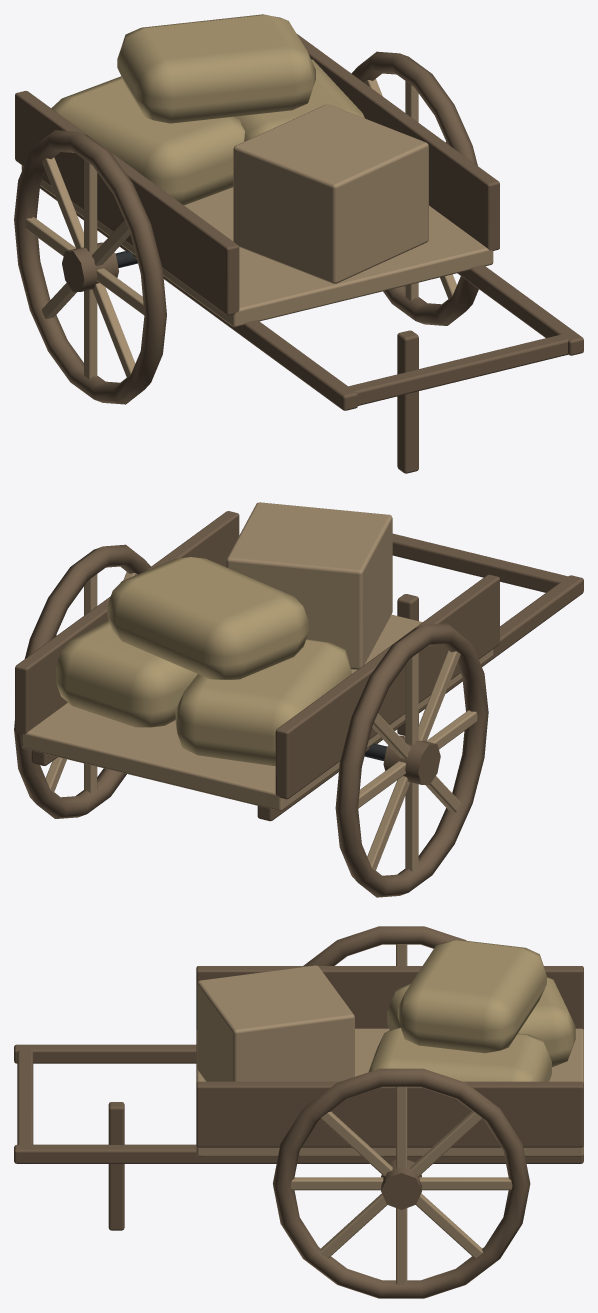
The model's file is handcart.glb.
The picture shows the model from 3 angles, top to bottom: view 1: azimuth 30°, elevation 25°; view 2: azimuth 150°, elevation 25°; view 3: azimuth 270°, elevation 25°; orthographic projection. The views are drawn at different scales.
Visible parts, largest first — view 1: planks-dark, planks, burlap; view 2: planks-dark, planks, burlap; view 3: planks-dark, planks, burlap.
Boxes of the visible parts, x1,y1,x2,y2 form: planks-dark: (14,33,583,473); planks: (21,79,493,378); burlap: (51,14,364,205); planks-dark: (14,511,583,897); planks: (21,502,493,871); burlap: (56,557,351,765); planks-dark: (14,926,583,1298); planks: (196,944,583,1284); burlap: (368,940,575,1081).
Bounding box in the file's own units: 1.64 × 1.27 × 2.5.
